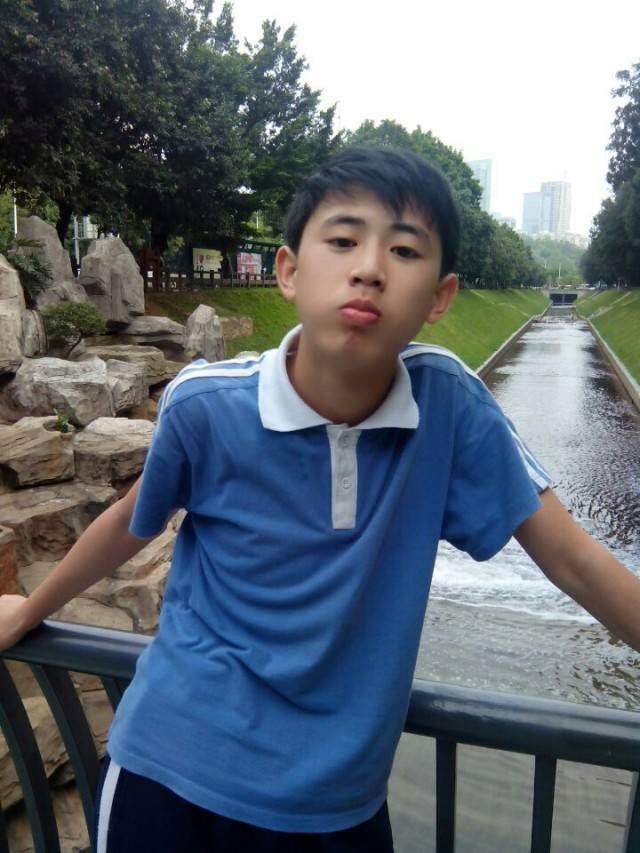person: (138, 138, 495, 853)
